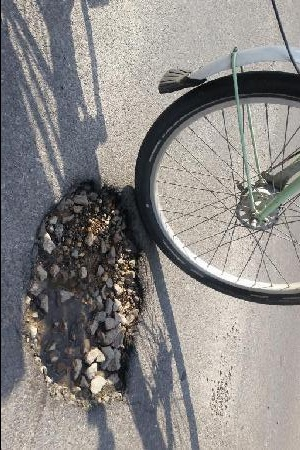pothole: (22, 175, 147, 408)
